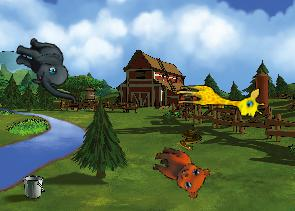bear: (145, 143, 213, 201)
elephant: (7, 35, 87, 104)
giraffe: (174, 84, 265, 118)
